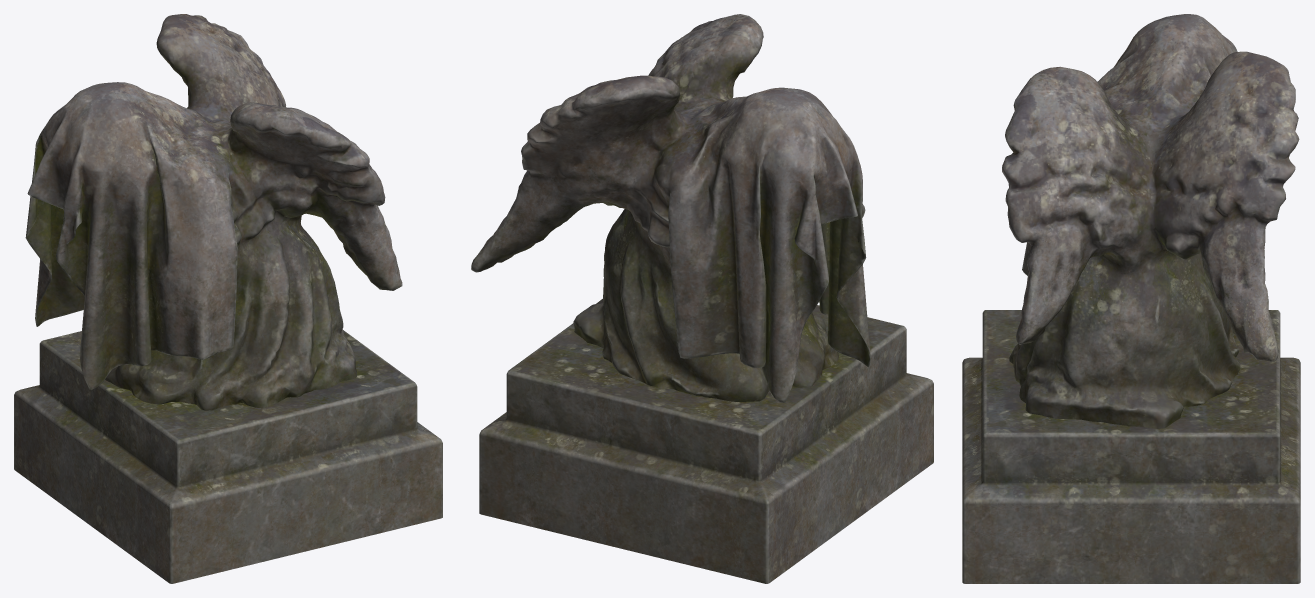
The model's file is SM_StatueA.fbx.
3 renders of one model, left to right at view 1: azimuth 30°, elevation 25°; view 2: azimuth 150°, elevation 25°; view 3: azimuth 270°, elevation 25°, orthographic. The views are drawn at different scales.
Visible parts, largest first — view 1: SM_StatueA_LOD0; view 2: SM_StatueA_LOD0; view 3: SM_StatueA_LOD0.
Part boxes in pixels (bbox=[...]): SM_StatueA_LOD0: bbox=[14, 14, 442, 583]; SM_StatueA_LOD0: bbox=[471, 14, 933, 583]; SM_StatueA_LOD0: bbox=[962, 14, 1300, 583].
Bounding box in the file's own units: 131 × 110 × 164.
1 material, 1 textured.
